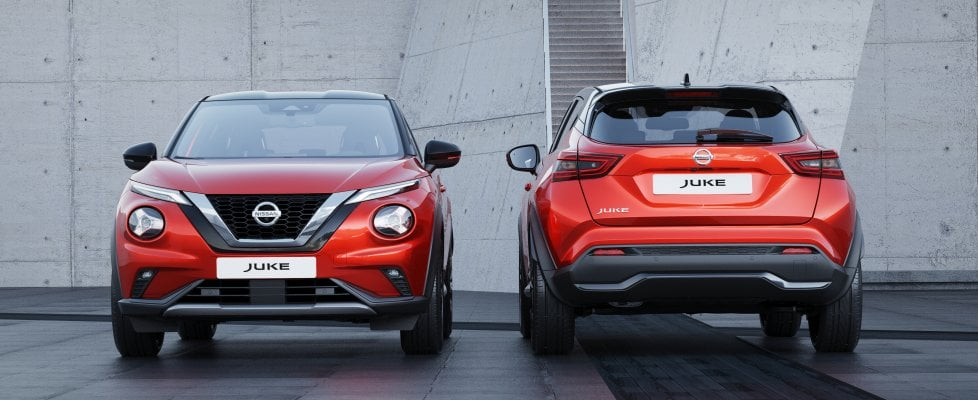car: (507, 81, 863, 354), (110, 90, 461, 358)
